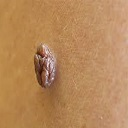Melanoma: (29, 42, 63, 88)
